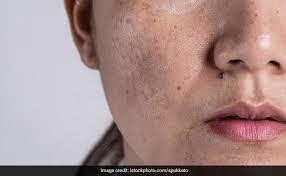Englarged-Pores: (93, 2, 214, 108)
Oily-Skin: (125, 13, 286, 149)
